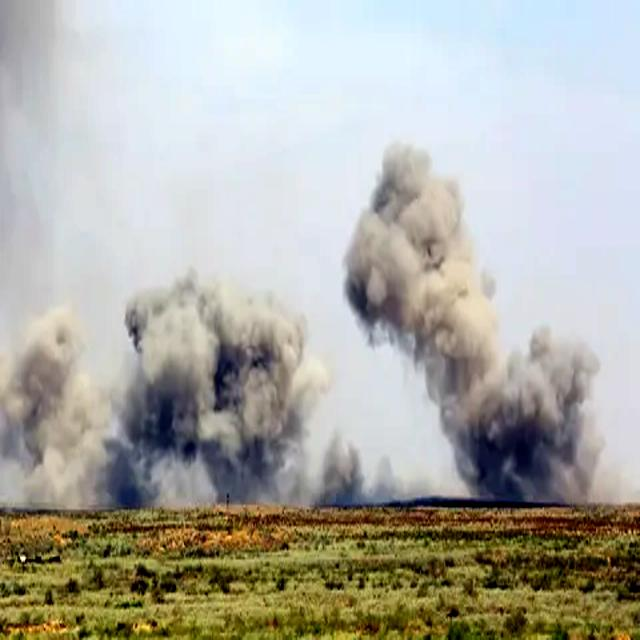Smoke: (346, 149, 604, 502), (139, 279, 361, 509), (2, 319, 137, 524)
